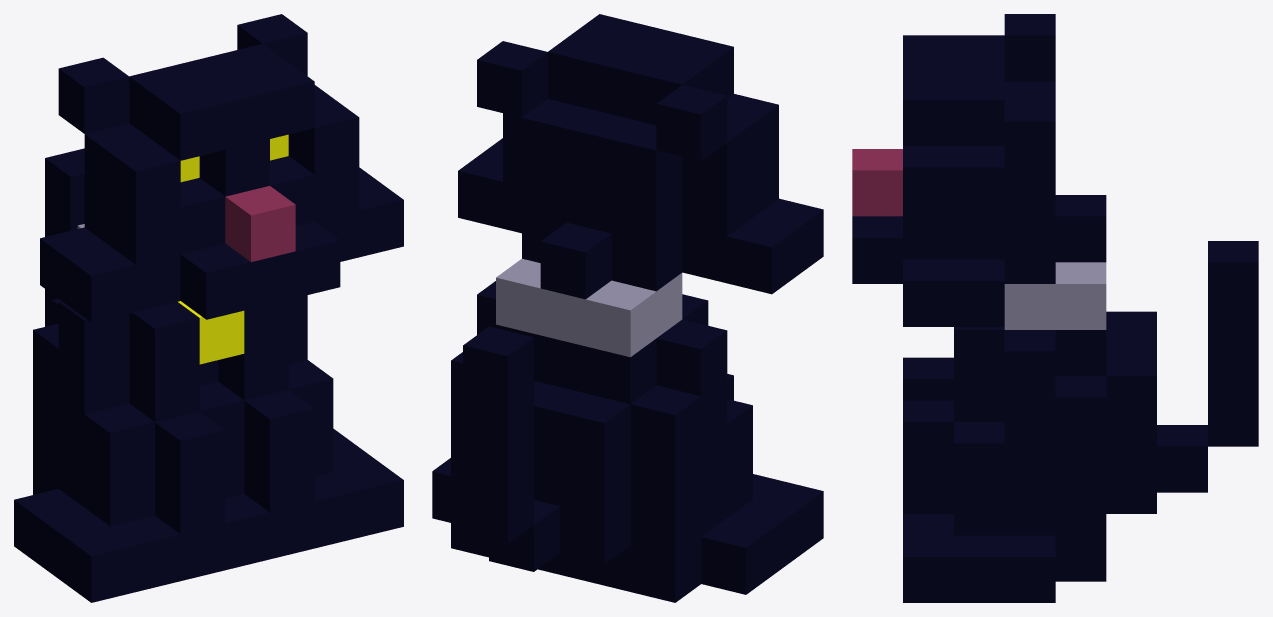
The model's file is cat2.obj.
3 renders of one model, left to right at view 1: azimuth 30°, elevation 25°; view 2: azimuth 150°, elevation 25°; view 3: azimuth 270°, elevation 25°, orthographic.
Size of the model in its own units: 0.7 by 1 by 0.8.
Materials: 1 (1 with a texture image).
